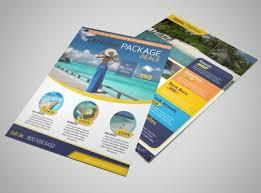Printing industry: (2, 2, 252, 188)
